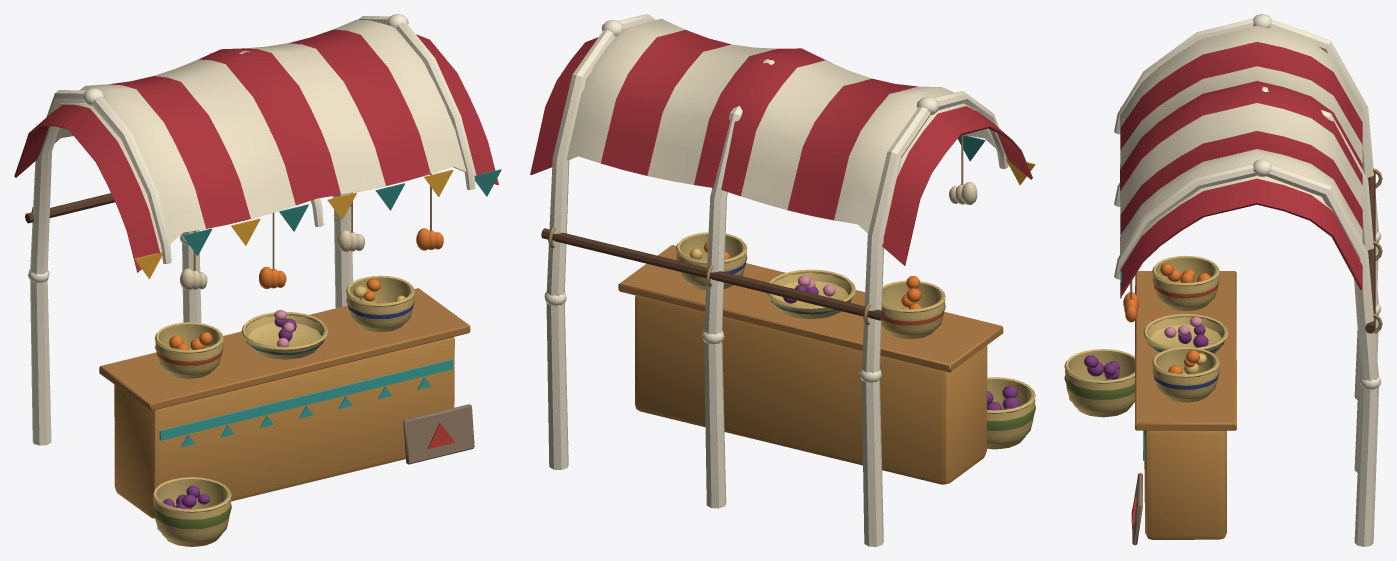
The model's file is deco_market_stall_produce.fbx.
3 views of the same model, side by side, from view 1: azimuth 30°, elevation 25°; view 2: azimuth 150°, elevation 25°; view 3: azimuth 270°, elevation 25° (orthographic). The views are drawn at different scales.
Parts seen in each view (by area): view 1: MarketStall_Produce_Canopy, MarketStall_Produce_Counter, MarketStall_Produce_Ribs, MarketStall_Produce_CounterTop, MarketStall_Produce_GroundBasket, MarketStall_Produce_Basket2, MarketStall_Produce_Basket1, MarketStall_Produce_Basket3, MarketStall_Produce_Sign, MarketStall_Produce_CanopyFlags, MarketStall_Produce_HangingGourds; view 2: MarketStall_Produce_Canopy, MarketStall_Produce_Counter, MarketStall_Produce_Ribs, MarketStall_Produce_CounterTop, MarketStall_Produce_Basket1, MarketStall_Produce_GroundBasket, MarketStall_Produce_Basket2, MarketStall_Produce_Basket3, MarketStall_Produce_HangingGourds, MarketStall_Produce_CanopyFlags; view 3: MarketStall_Produce_Canopy, MarketStall_Produce_Ribs, MarketStall_Produce_Counter, MarketStall_Produce_CounterTop, MarketStall_Produce_GroundBasket, MarketStall_Produce_Basket3, MarketStall_Produce_Basket1, MarketStall_Produce_Basket2, MarketStall_Produce_Sign, MarketStall_Produce_HangingGourds.
Part boxes in pixels (x1=…): MarketStall_Produce_Canopy: x1=14, y1=19, x2=498, y2=272; MarketStall_Produce_Counter: x1=114, y1=337, x2=454, y2=518; MarketStall_Produce_Ribs: x1=25, y1=14, x2=475, y2=445; MarketStall_Produce_CounterTop: x1=99, y1=288, x2=470, y2=410; MarketStall_Produce_GroundBasket: x1=152, y1=477, x2=231, y2=546; MarketStall_Produce_Basket2: x1=241, y1=310, x2=328, y2=359; MarketStall_Produce_Basket1: x1=155, y1=322, x2=223, y2=378; MarketStall_Produce_Basket3: x1=346, y1=275, x2=414, y2=332; MarketStall_Produce_Sign: x1=403, y1=404, x2=474, y2=464; MarketStall_Produce_CanopyFlags: x1=134, y1=169, x2=501, y2=278; MarketStall_Produce_HangingGourds: x1=180, y1=173, x2=443, y2=290; MarketStall_Produce_Canopy: x1=530, y1=18, x2=1032, y2=265; MarketStall_Produce_Counter: x1=635, y1=295, x2=987, y2=484; MarketStall_Produce_Ribs: x1=541, y1=14, x2=1008, y2=546; MarketStall_Produce_CounterTop: x1=618, y1=245, x2=1003, y2=372; MarketStall_Produce_Basket1: x1=881, y1=276, x2=945, y2=339; MarketStall_Produce_GroundBasket: x1=987, y1=377, x2=1035, y2=449; MarketStall_Produce_Basket2: x1=767, y1=269, x2=855, y2=319; MarketStall_Produce_Basket3: x1=676, y1=232, x2=747, y2=290; MarketStall_Produce_HangingGourds: x1=949, y1=135, x2=977, y2=205; MarketStall_Produce_CanopyFlags: x1=957, y1=135, x2=1035, y2=184; MarketStall_Produce_Canopy: x1=1120, y1=26, x2=1362, y2=295; MarketStall_Produce_Ribs: x1=1114, y1=14, x2=1382, y2=546; MarketStall_Produce_Counter: x1=1143, y1=430, x2=1226, y2=539; MarketStall_Produce_CounterTop: x1=1135, y1=271, x2=1236, y2=430; MarketStall_Produce_GroundBasket: x1=1064, y1=349, x2=1134, y2=417; MarketStall_Produce_Basket3: x1=1152, y1=347, x2=1219, y2=402; MarketStall_Produce_Basket1: x1=1152, y1=255, x2=1219, y2=311; MarketStall_Produce_Basket2: x1=1143, y1=314, x2=1228, y2=353; MarketStall_Produce_Sign: x1=1131, y1=473, x2=1142, y2=545; MarketStall_Produce_HangingGourds: x1=1123, y1=280, x2=1138, y2=322.
Bounding box in the file's own units: 326 × 333 × 250.
